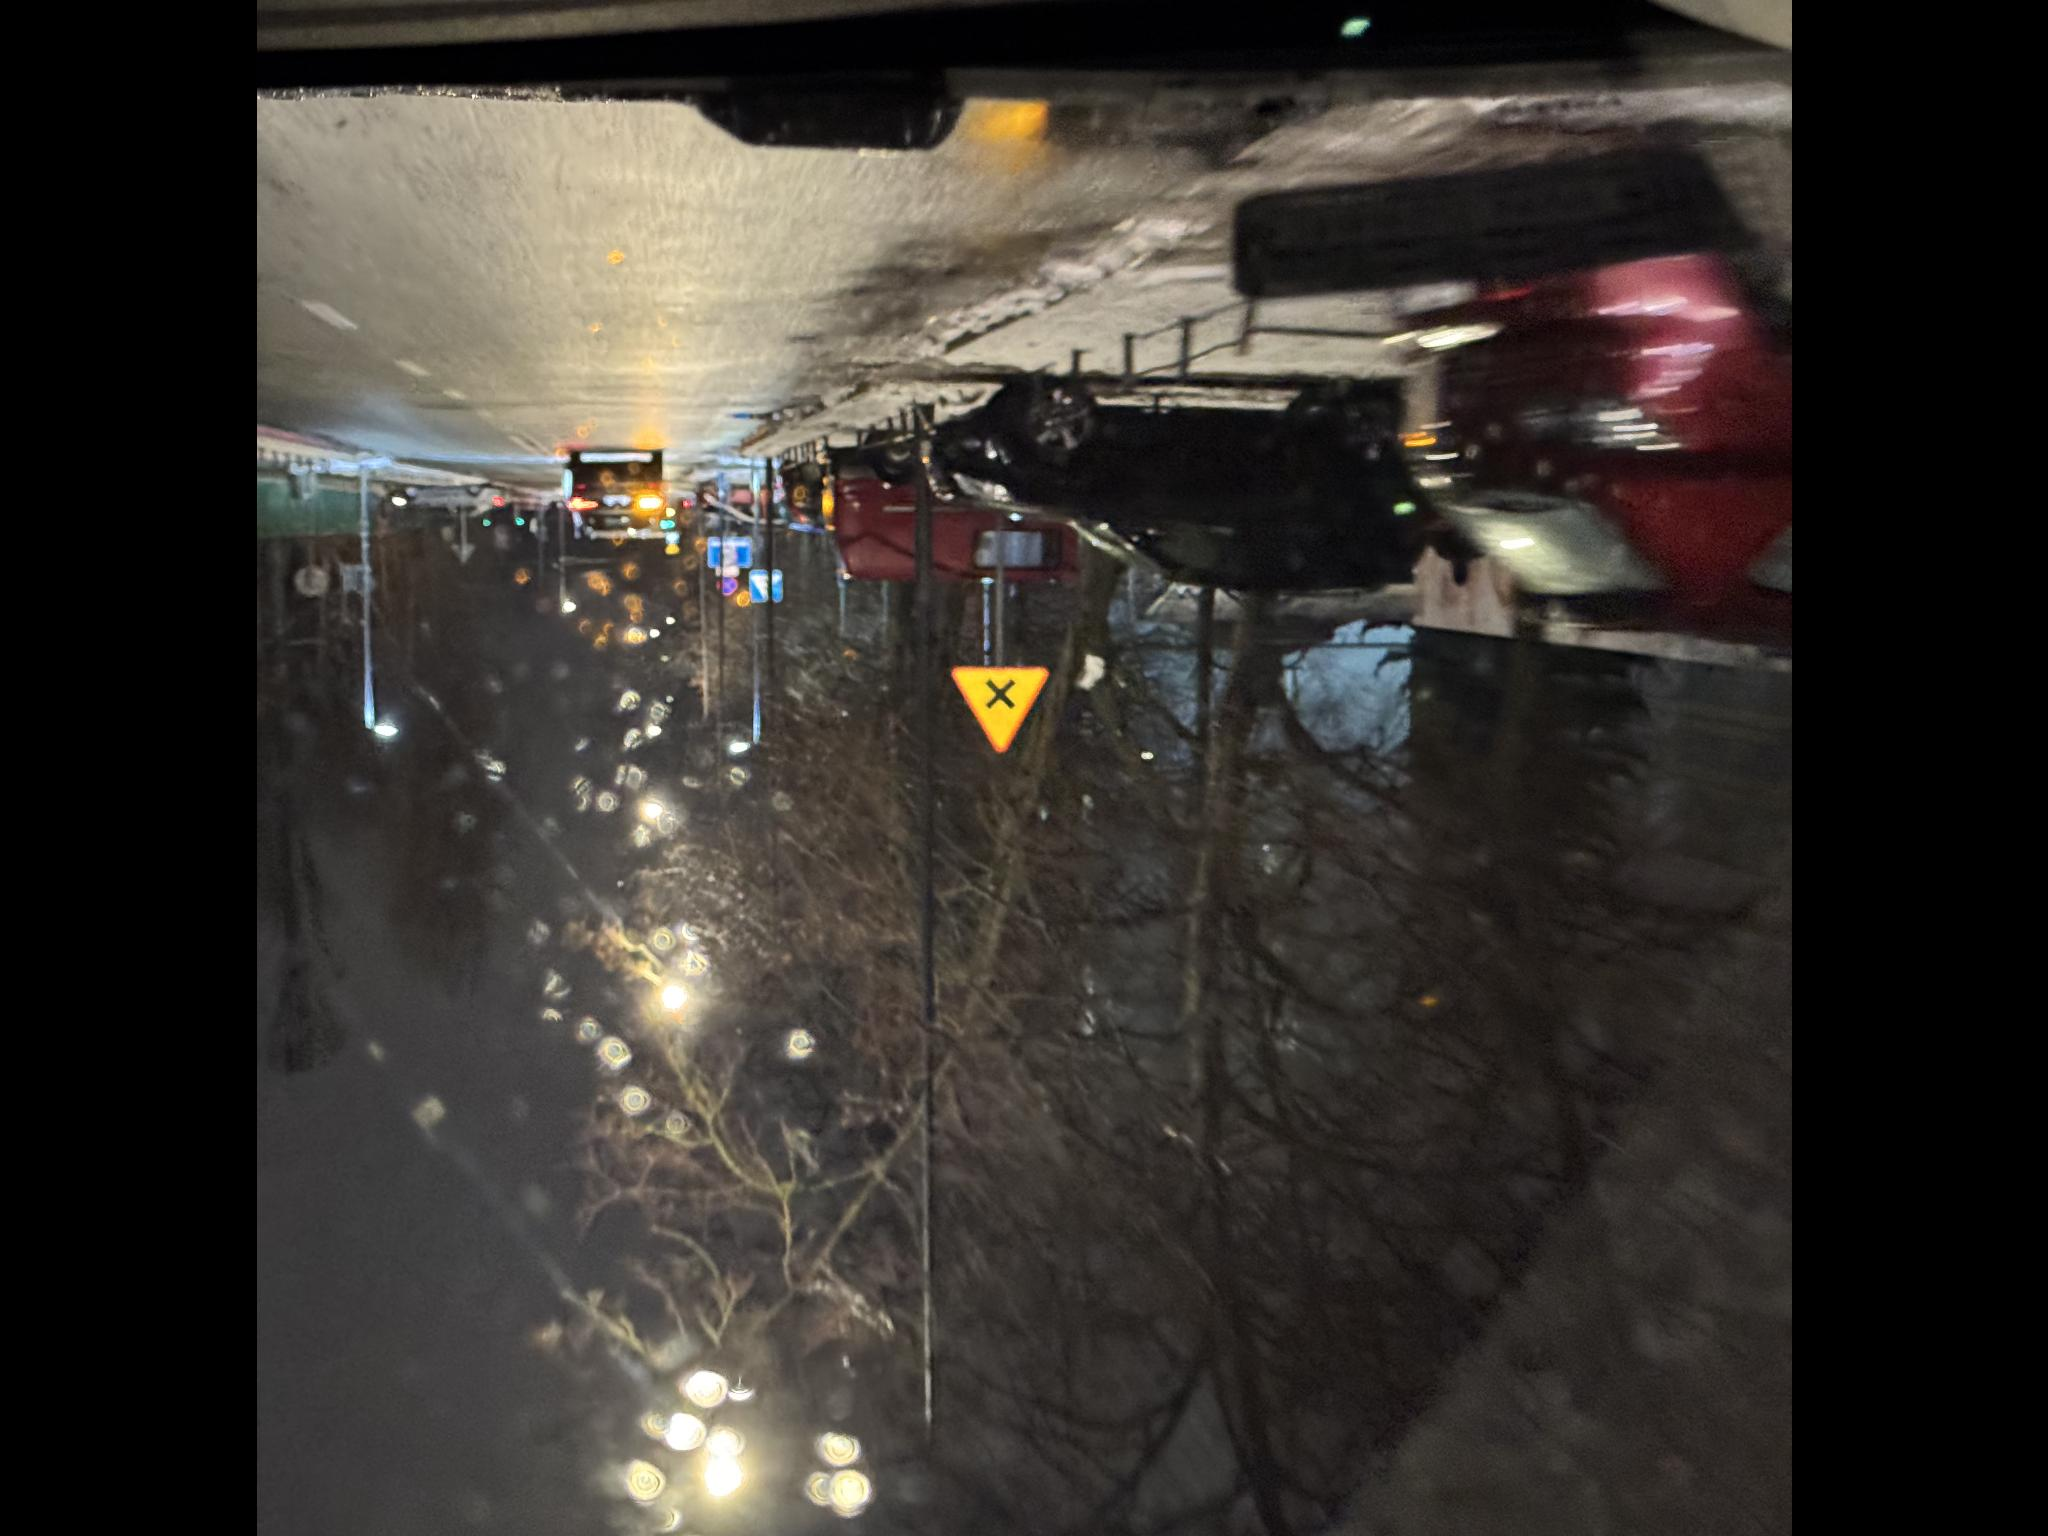information: (569, 1281, 601, 1299), (569, 1263, 601, 1278)
prohibitory: (577, 1310, 597, 1326)
warning: (664, 999, 755, 1099)
